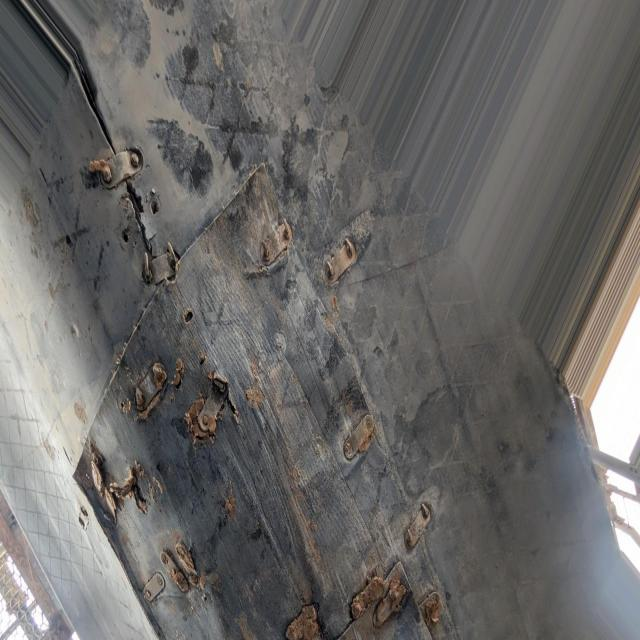patch work: (69, 88, 476, 640)
